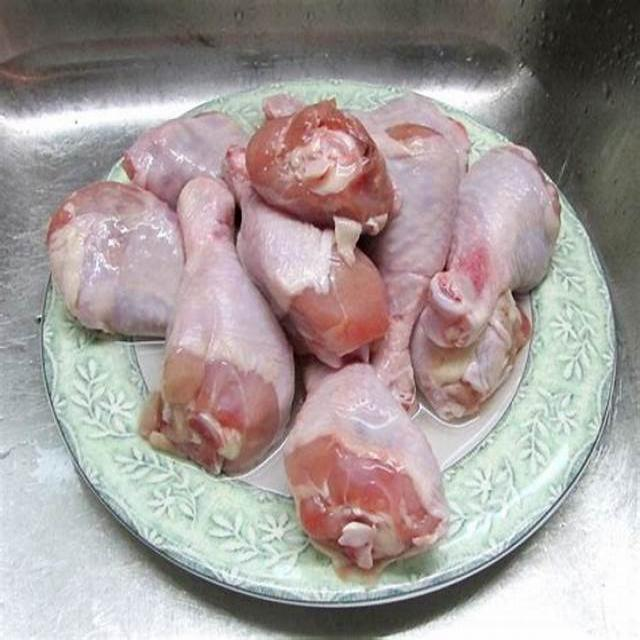chicken: (140, 176, 295, 475), (228, 149, 389, 367), (360, 93, 471, 408), (285, 361, 449, 571), (421, 144, 562, 347), (46, 181, 184, 337), (248, 98, 396, 234), (412, 291, 534, 421), (122, 112, 247, 208)
